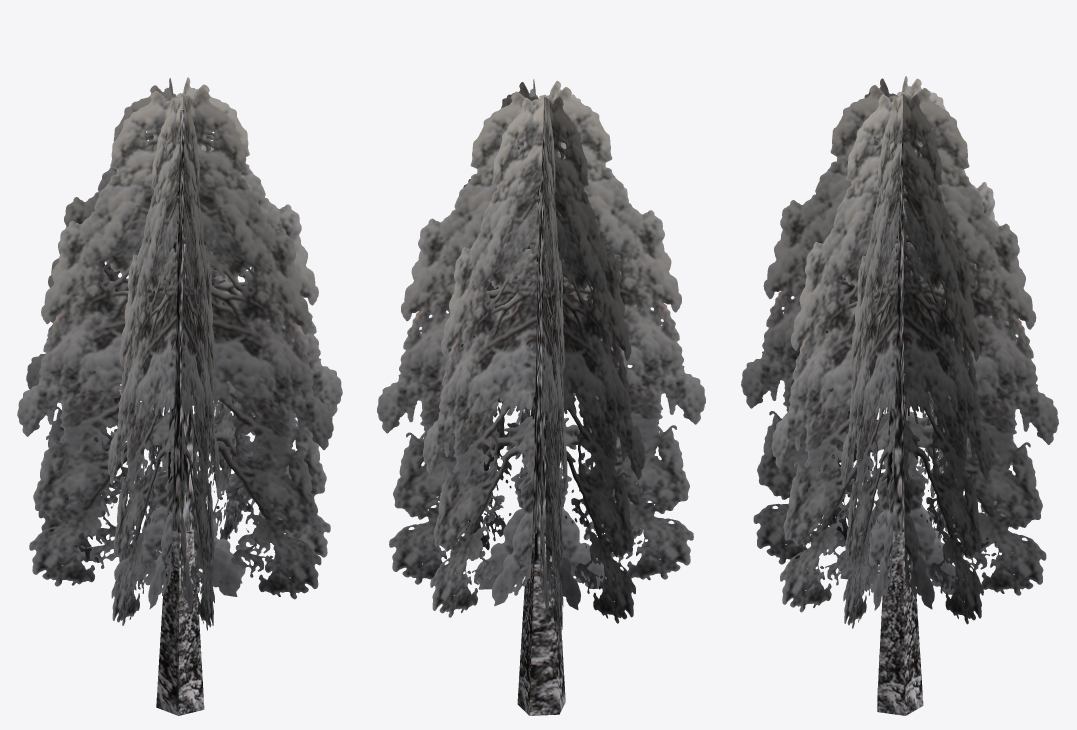
File: Tree3.fbx
3 renders of one model, left to right at view 1: azimuth 30°, elevation 25°; view 2: azimuth 150°, elevation 25°; view 3: azimuth 270°, elevation 25°, orthographic.
Parts seen in each view (by area): view 1: Plane.003, Plane.018, Plane.002, Plane.017, Cylinder.002, Plane.005, Plane.004, Plane.007, Plane.016; view 2: Plane.016, Plane.018, Plane.002, Plane.007, Cylinder.002, Plane.004, Plane.005, Plane.017; view 3: Plane.016, Plane.007, Plane.003, Plane.005, Plane.017, Cylinder.002, Plane.004, Plane.018, Plane.002.
Boxes of the visible parts, x1,y1,x2,y2 form: Plane.003: (181,90,333,599); Plane.018: (17,91,180,586); Plane.002: (107,96,182,625); Plane.017: (181,96,219,630); Cylinder.002: (156,108,204,715); Plane.005: (179,84,342,583); Plane.004: (26,85,178,568); Plane.007: (177,77,247,540); Plane.016: (145,78,176,511); Plane.016: (422,97,543,617); Plane.018: (544,96,645,623); Plane.002: (541,87,705,588); Plane.007: (377,91,541,589); Cylinder.002: (517,109,565,715); Plane.004: (540,97,567,633); Plane.005: (453,82,538,568); Plane.017: (539,80,648,559); Plane.016: (901,88,1058,595); Plane.007: (902,94,992,624); Plane.003: (771,94,901,612); Plane.005: (840,95,902,628); Plane.017: (741,85,898,579); Cylinder.002: (877,118,923,715); Plane.004: (898,78,1016,563); Plane.018: (897,76,948,553); Plane.002: (824,78,896,565).
Size of the model in its own units: 1239 by 2699 by 1273.
1 material, 1 textured.
